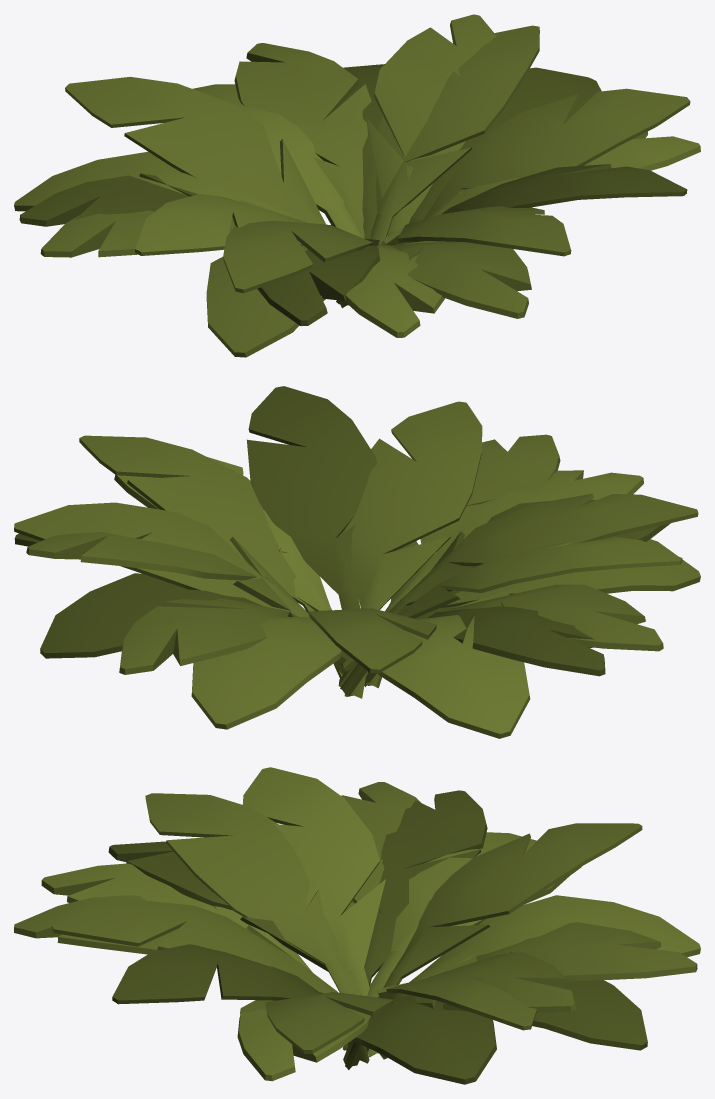
The model's file is Växt finished.fbx.
3 renders of one model, top to bottom at view 1: azimuth 30°, elevation 25°; view 2: azimuth 150°, elevation 25°; view 3: azimuth 270°, elevation 25°, orthographic.
Visible parts, largest first — view 1: pasted__group52_pasted__pasted__group51_pasted__pasted__past; view 2: pasted__group52_pasted__pasted__group51_pasted__pasted__past; view 3: pasted__group52_pasted__pasted__group51_pasted__pasted__past.
Part boxes in pixels (x1,y1,x2,y2): pasted__group52_pasted__pasted__group51_pasted__pasted__past: (14, 14, 700, 357); pasted__group52_pasted__pasted__group51_pasted__pasted__past: (14, 386, 700, 738); pasted__group52_pasted__pasted__group51_pasted__pasted__past: (14, 767, 700, 1084).
Size of the model in its own units: 8.08 by 2.12 by 7.88.
